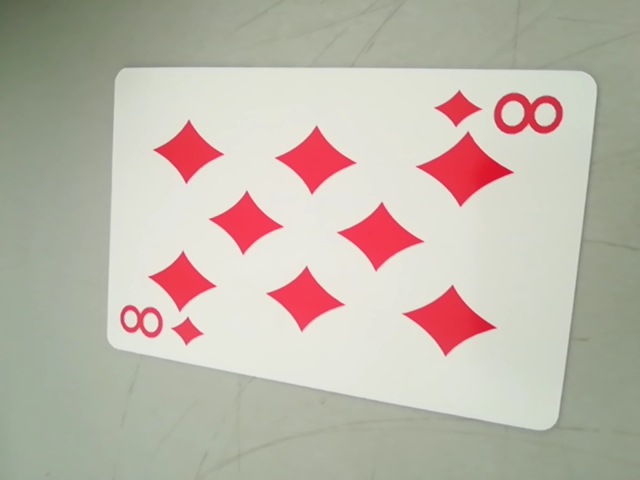fk 8: (430, 86, 566, 140), (114, 299, 203, 352)
